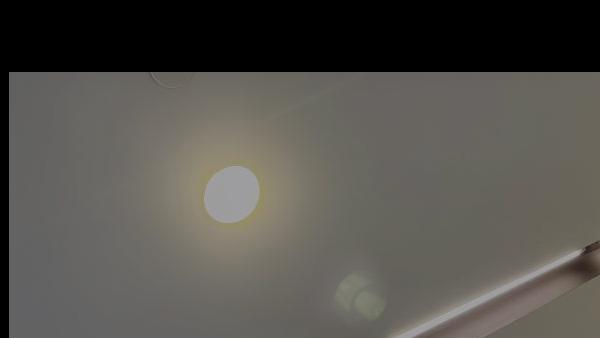light_on: (377, 243, 573, 338), (200, 151, 267, 238)
